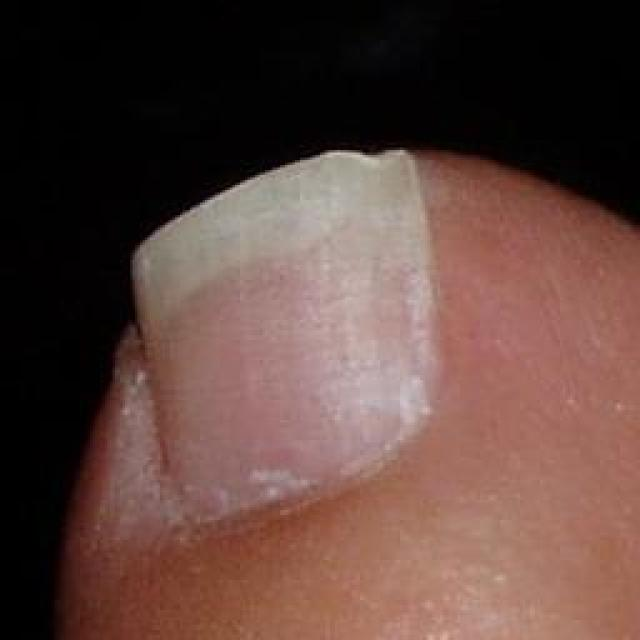Nail: (127, 154, 443, 534)
